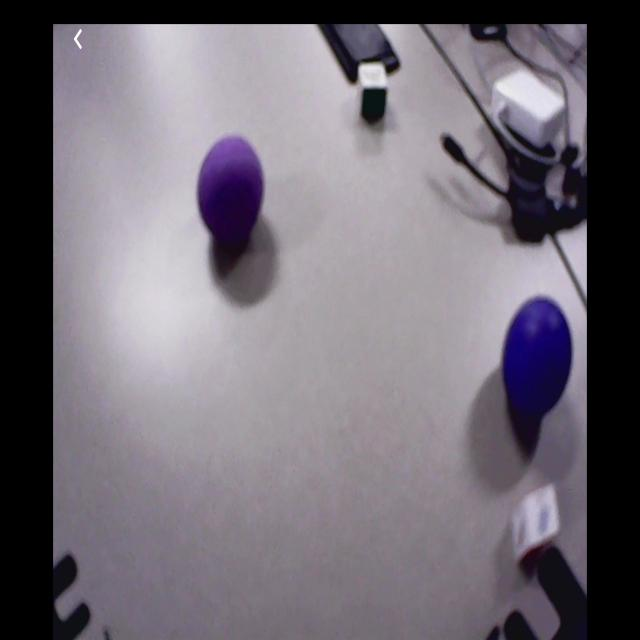ball: (504, 299, 572, 412), (198, 136, 263, 238)
